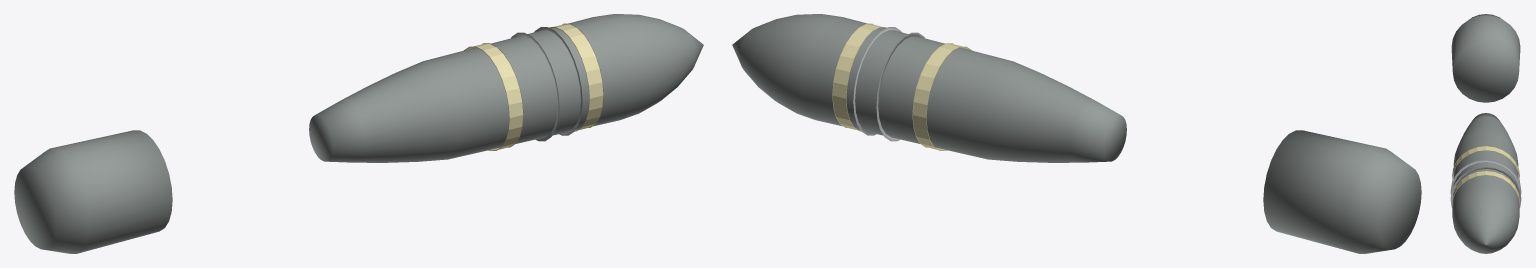
Rendered from US_SLBM_Polaris_A3_LOD1.fbx.
3 renders of one model, left to right at view 1: azimuth 30°, elevation 25°; view 2: azimuth 150°, elevation 25°; view 3: azimuth 270°, elevation 25°, orthographic. The views are drawn at different scales.
Parts seen in each view (by area): view 1: WPN_US_SLBM_Polaris_A3_LOD1_Body, WPN_US_SLBM_Polaris_A3_LOD1_Tail, WPN_US_SLBM_Polaris_A3_LOD1_Marking, WPN_US_SLBM_Polaris_A3_LOD1_Detail; view 2: WPN_US_SLBM_Polaris_A3_LOD1_Body, WPN_US_SLBM_Polaris_A3_LOD1_Tail, WPN_US_SLBM_Polaris_A3_LOD1_Marking, WPN_US_SLBM_Polaris_A3_LOD1_Detail; view 3: WPN_US_SLBM_Polaris_A3_LOD1_Body, WPN_US_SLBM_Polaris_A3_LOD1_Tail, WPN_US_SLBM_Polaris_A3_LOD1_Marking, WPN_US_SLBM_Polaris_A3_LOD1_Detail.
Boxes of the visible parts, x1,y1,x2,y2 form: WPN_US_SLBM_Polaris_A3_LOD1_Body: (309, 14, 703, 162); WPN_US_SLBM_Polaris_A3_LOD1_Tail: (14, 130, 172, 253); WPN_US_SLBM_Polaris_A3_LOD1_Marking: (464, 23, 603, 150); WPN_US_SLBM_Polaris_A3_LOD1_Detail: (511, 27, 582, 141); WPN_US_SLBM_Polaris_A3_LOD1_Body: (732, 14, 1126, 162); WPN_US_SLBM_Polaris_A3_LOD1_Tail: (1263, 130, 1421, 253); WPN_US_SLBM_Polaris_A3_LOD1_Marking: (832, 23, 971, 150); WPN_US_SLBM_Polaris_A3_LOD1_Detail: (853, 27, 924, 141); WPN_US_SLBM_Polaris_A3_LOD1_Body: (1452, 113, 1519, 253); WPN_US_SLBM_Polaris_A3_LOD1_Tail: (1451, 14, 1520, 102); WPN_US_SLBM_Polaris_A3_LOD1_Marking: (1452, 146, 1519, 207); WPN_US_SLBM_Polaris_A3_LOD1_Detail: (1450, 159, 1521, 207).
Bounding box in the file's own units: 9.9 × 1.44 × 1.44.
